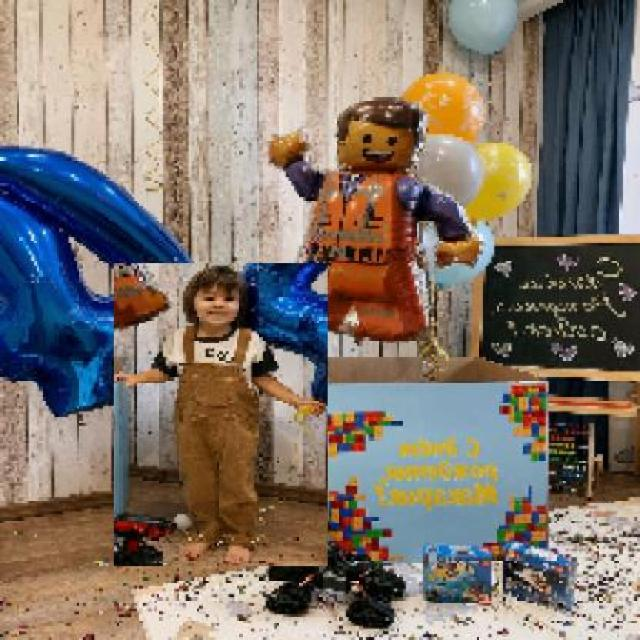child: (112, 263, 328, 568)
